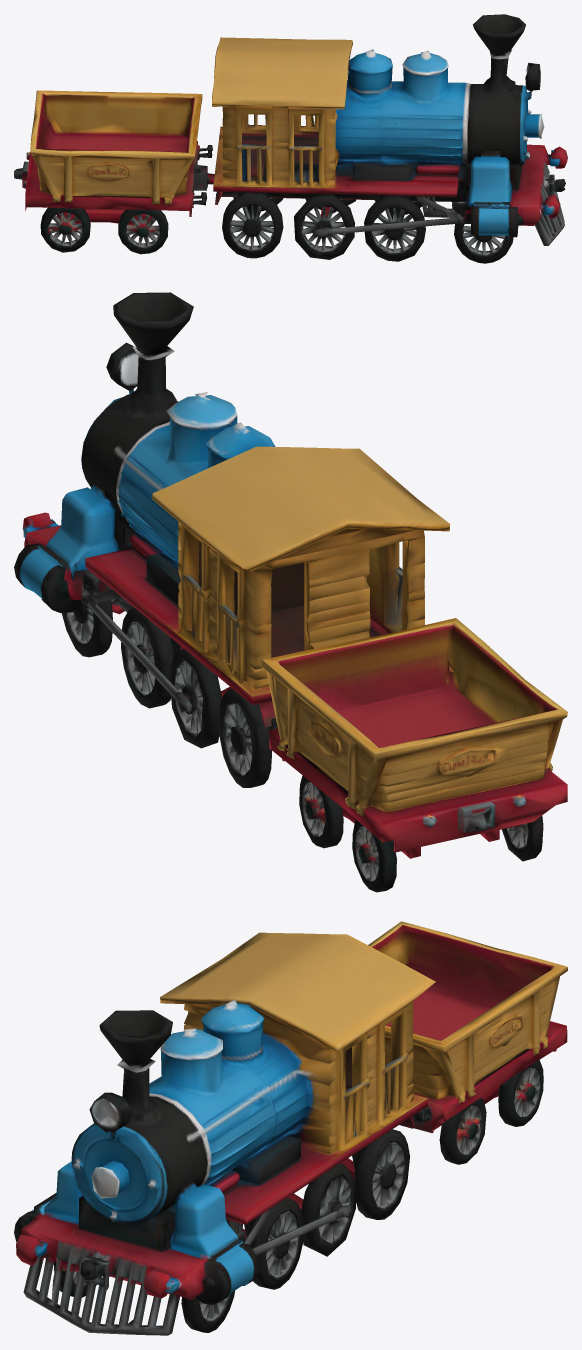
File: locomotive.glb
3 views of the same model, one above another, from view 1: azimuth 30°, elevation 25°; view 2: azimuth 150°, elevation 25°; view 3: azimuth 270°, elevation 25° (orthographic). The views are drawn at different scales.
Parts seen in each view (by area): view 1: tripo_node_560c9553-84f4-4c8f-a2b2-2acd7d2dd173; view 2: tripo_node_560c9553-84f4-4c8f-a2b2-2acd7d2dd173; view 3: tripo_node_560c9553-84f4-4c8f-a2b2-2acd7d2dd173.
Part boxes in pixels (bbox=[...]): tripo_node_560c9553-84f4-4c8f-a2b2-2acd7d2dd173: bbox=[14, 14, 567, 263]; tripo_node_560c9553-84f4-4c8f-a2b2-2acd7d2dd173: bbox=[14, 292, 567, 892]; tripo_node_560c9553-84f4-4c8f-a2b2-2acd7d2dd173: bbox=[14, 921, 567, 1335].
Bounding box in the file's own units: 0.6591 × 0.3 × 0.5098.
1 material, 1 textured.
